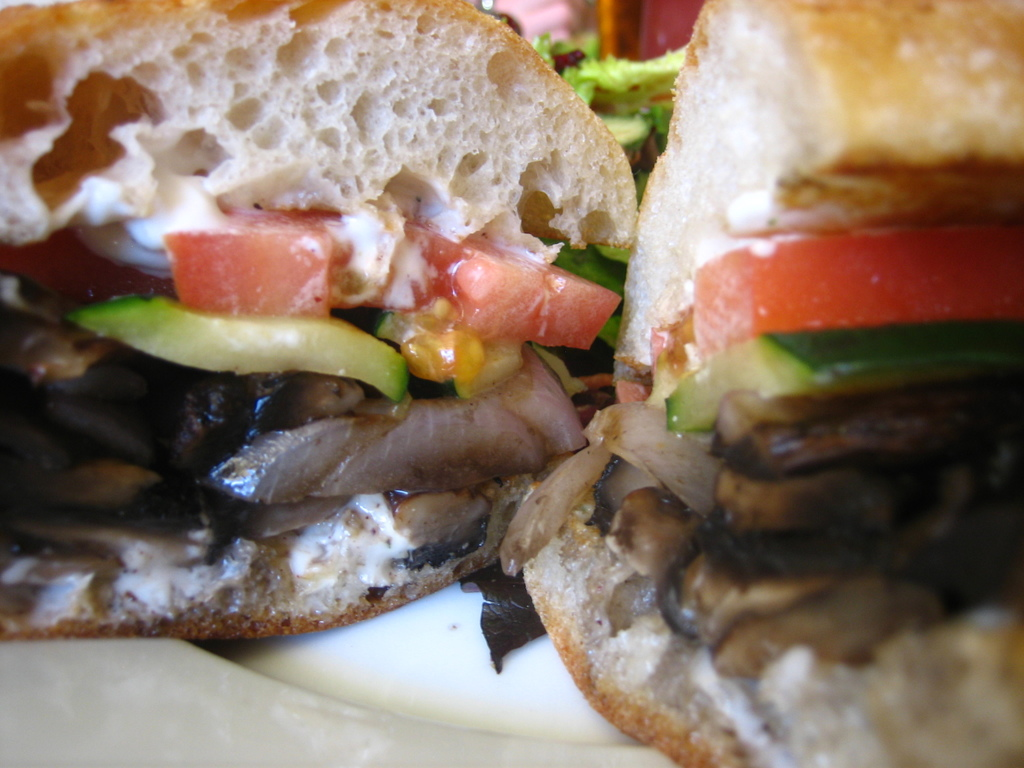Hamburger: (0, 0, 641, 642), (498, 0, 1023, 767)
